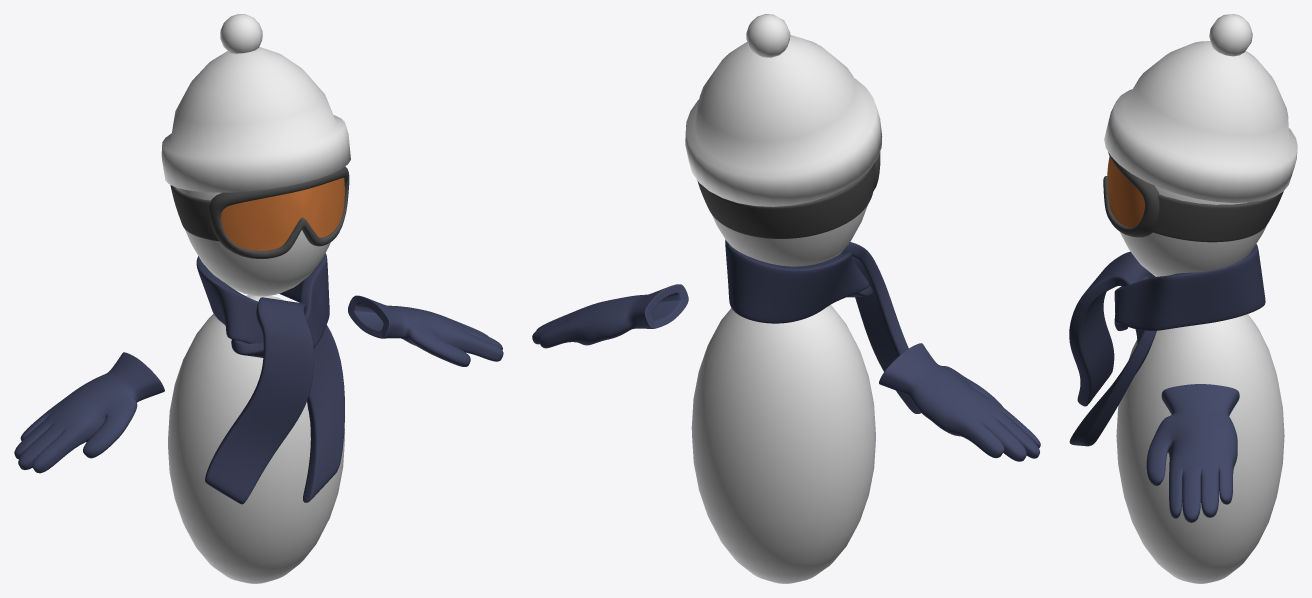
Rendered from schneeballschlachtchar.fbx.
The picture shows the model from 3 angles, left to right: view 1: azimuth 30°, elevation 25°; view 2: azimuth 150°, elevation 25°; view 3: azimuth 270°, elevation 25°; orthographic projection. The views are drawn at different scales.
Parts seen in each view (by area): view 1: Body, Hat, Plane, Cube, Glass, Head, Head.001; view 2: Body, Hat, Cube, Plane, Head.001, Head; view 3: Body, Hat, Plane, Cube, Head.001, Head, Glass.
Boxes of the visible parts, x1,y1,x2,y2 form: Body: [168, 295, 344, 583]; Hat: [161, 14, 350, 192]; Plane: [196, 253, 344, 504]; Cube: [14, 295, 503, 473]; Glass: [221, 178, 344, 250]; Head: [175, 187, 330, 296]; Head.001: [170, 166, 349, 258]; Body: [691, 305, 875, 583]; Hat: [685, 14, 882, 206]; Cube: [532, 284, 1040, 461]; Plane: [725, 239, 920, 413]; Head.001: [697, 152, 880, 238]; Head: [712, 205, 867, 266]; Body: [1116, 314, 1284, 583]; Hat: [1104, 14, 1297, 202]; Plane: [1069, 244, 1265, 446]; Cube: [1146, 384, 1239, 522]; Head.001: [1103, 152, 1283, 242]; Head: [1120, 185, 1266, 276]; Glass: [1107, 156, 1144, 227].
Bounding box in the file's own units: 353 × 386 × 142.
